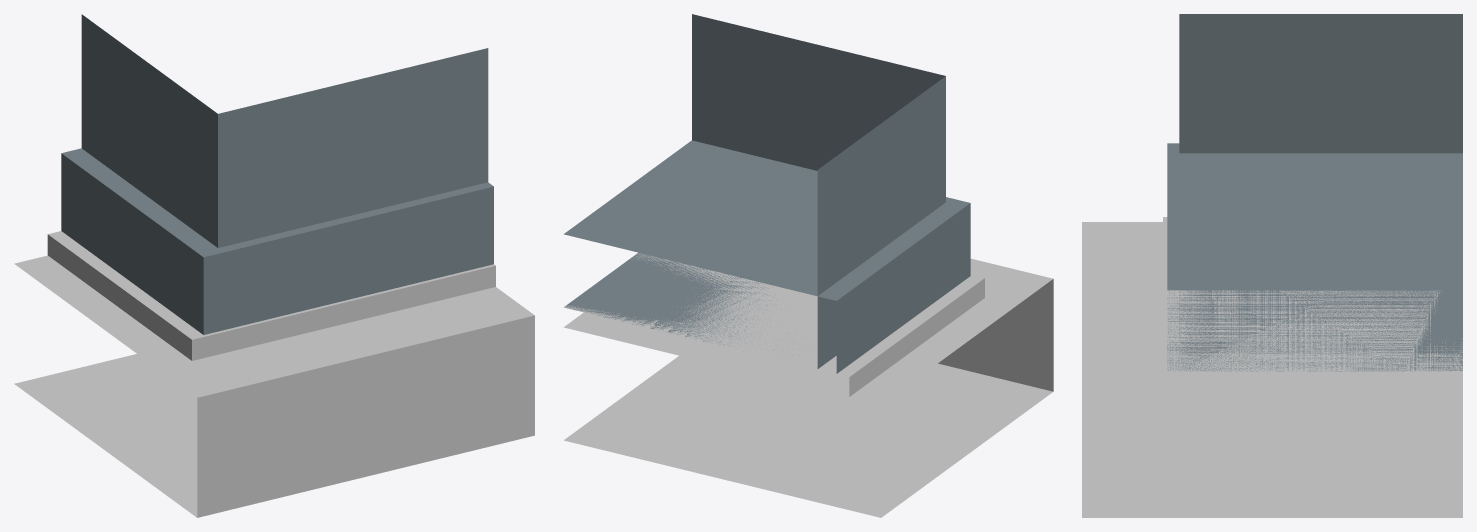
Rendered from cell_41.obj.
3 renders of one model, left to right at view 1: azimuth 30°, elevation 25°; view 2: azimuth 150°, elevation 25°; view 3: azimuth 270°, elevation 25°, orthographic. The views are drawn at different scales.
Bounding box in the file's own units: 1 × 1 × 0.94.
